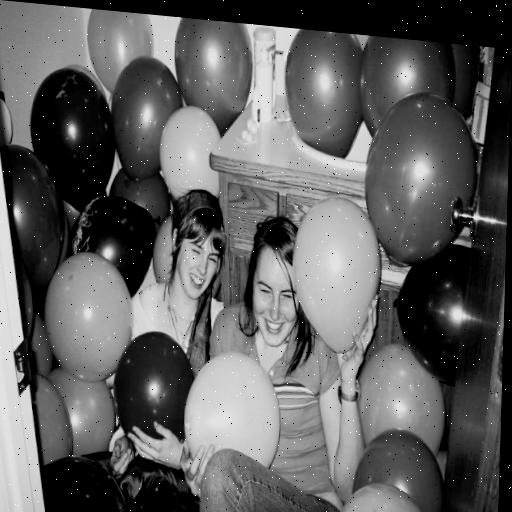balloon: (363, 90, 481, 271), (292, 204, 379, 355), (188, 349, 282, 478), (49, 249, 137, 385), (32, 66, 114, 203), (397, 236, 469, 387), (0, 141, 66, 305), (362, 35, 457, 146), (357, 341, 447, 455), (282, 28, 361, 157), (39, 452, 206, 512), (113, 337, 193, 453), (112, 57, 181, 186), (352, 426, 452, 512), (69, 198, 155, 298), (175, 20, 249, 136), (158, 103, 225, 202), (42, 367, 116, 452), (86, 9, 154, 90), (16, 374, 75, 466), (111, 164, 171, 235), (4, 242, 37, 342), (337, 482, 440, 512), (152, 217, 184, 290), (454, 44, 482, 114), (25, 308, 53, 375)
